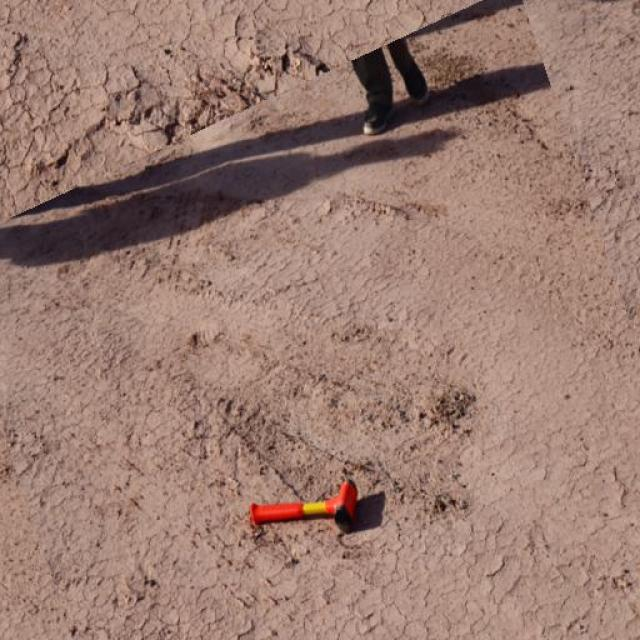mallet: (248, 478, 358, 528)
